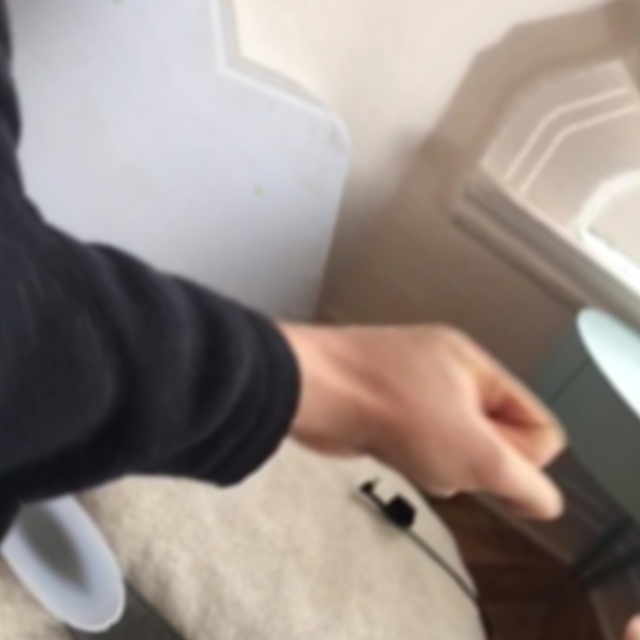Rock: (285, 248, 625, 605)
